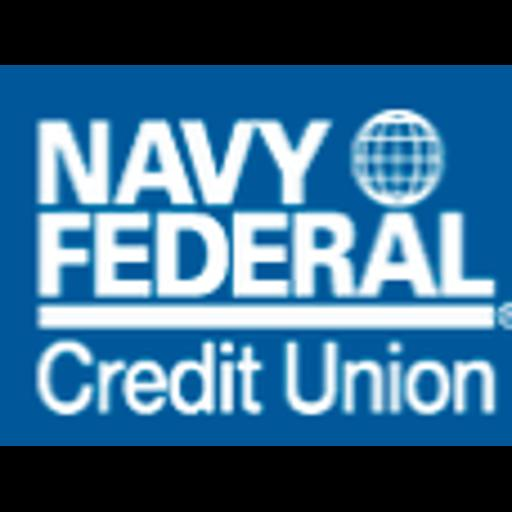Navy Federal Credit Union: (0, 65, 512, 446)
